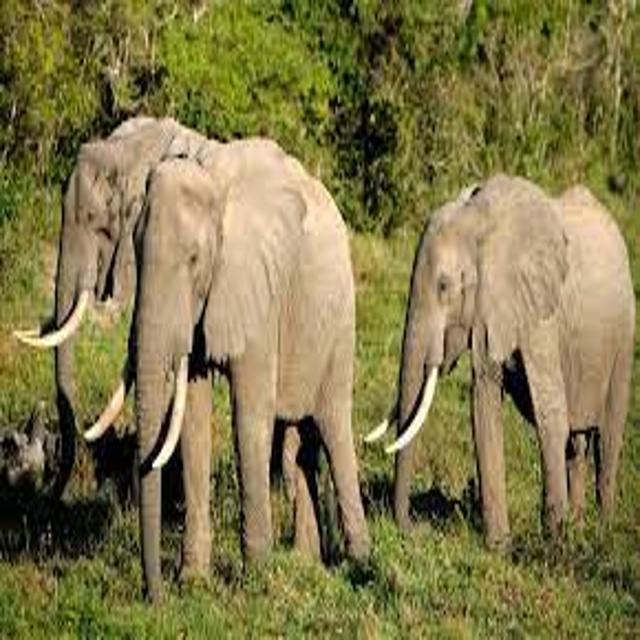Elephant: (121, 146, 375, 582), (389, 162, 640, 574)
